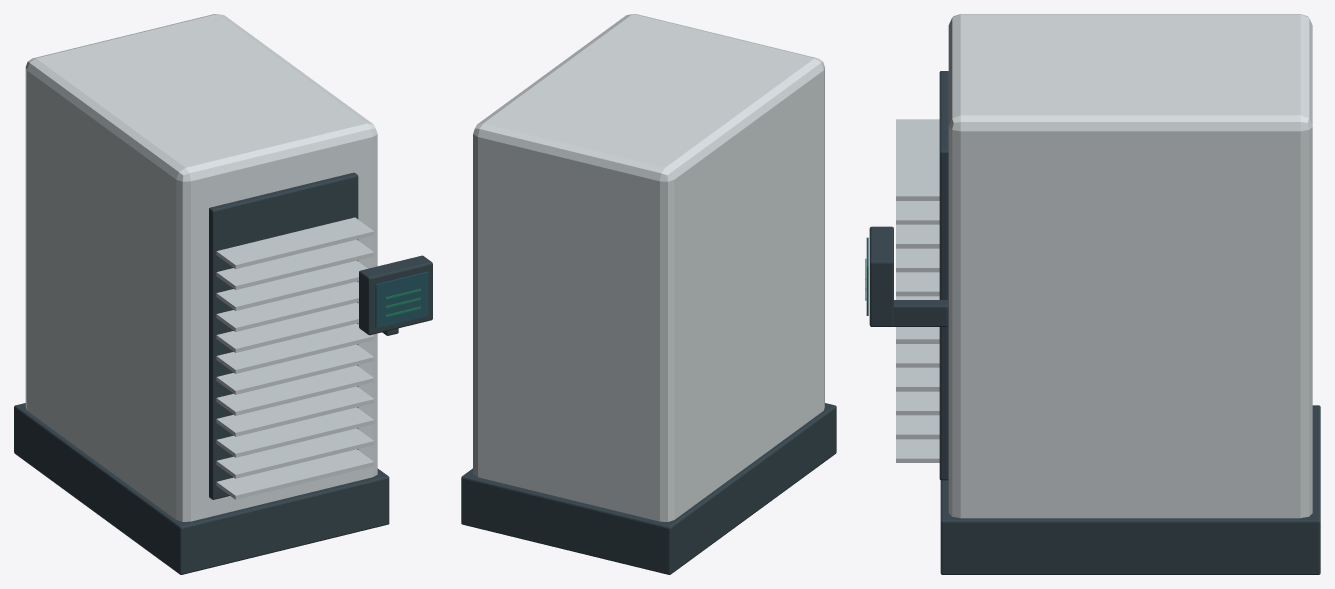
File: station-0.glb
3 views of the same model, side by side, from view 1: azimuth 30°, elevation 25°; view 2: azimuth 150°, elevation 25°; view 3: azimuth 270°, elevation 25° (orthographic). The views are drawn at different scales.
Visible parts, largest first — view 1: Machine chassis; view 2: Machine chassis; view 3: Machine chassis.
Boxes of the visible parts, x1=… form: Machine chassis: x1=14, y1=14, x2=432, y2=574; Machine chassis: x1=461, y1=14, x2=836, y2=574; Machine chassis: x1=865, y1=14, x2=1320, y2=574.
Size of the model in its own units: 1.44 by 2.5 by 2.25.
